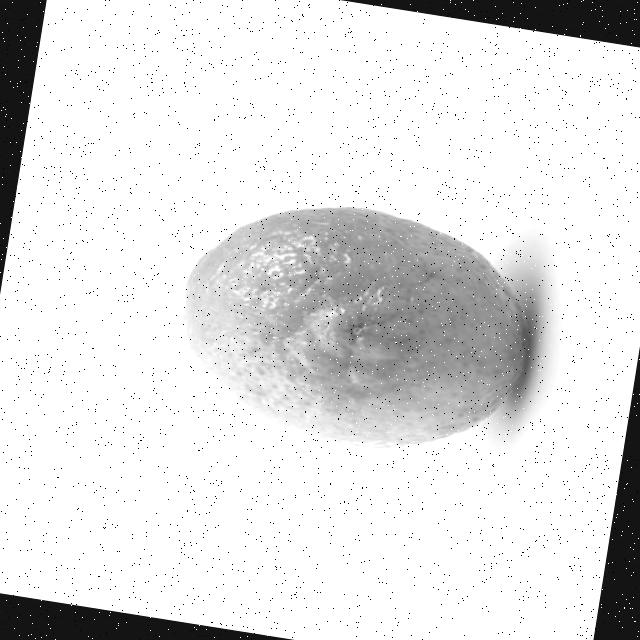Unripe: (163, 180, 544, 470)
